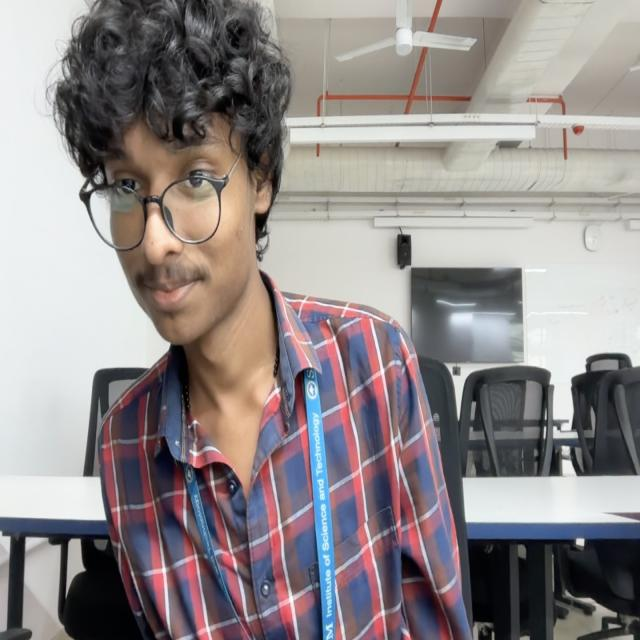darshan: (54, 0, 290, 342)
